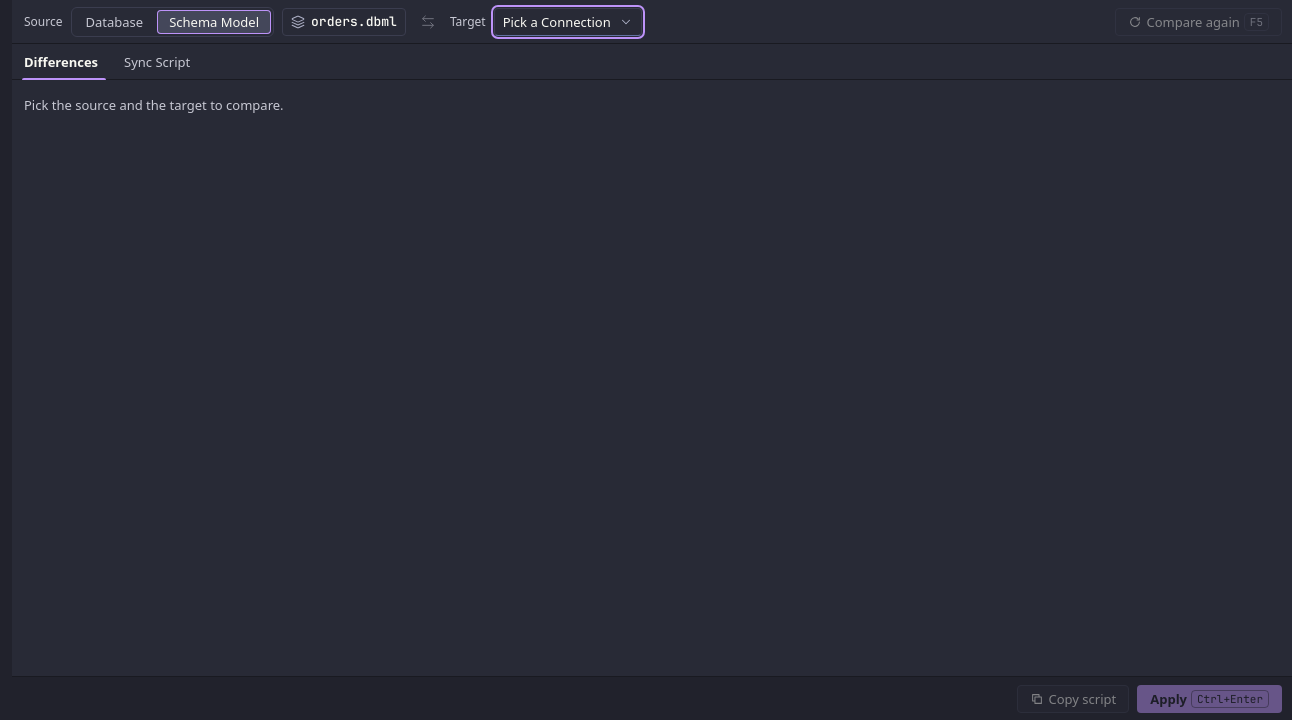
apply_to_connection_offers_matching_targets_and_disables_read_only
The image size is (1292, 720).
Click the dropdown named "Target Connection".
click(568, 22)  # box [494,8,642,36]
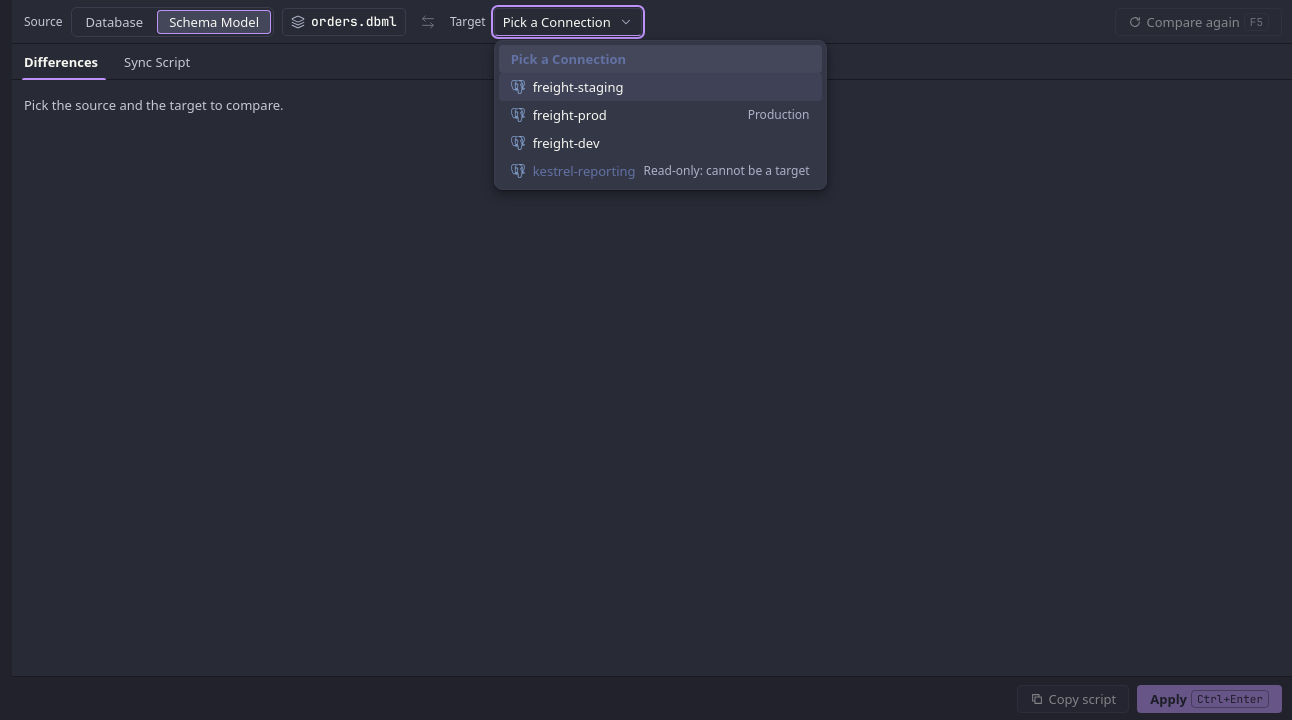
Check: the text "Read-only: cannot be a target" is shown, box [644,162,810,178]
